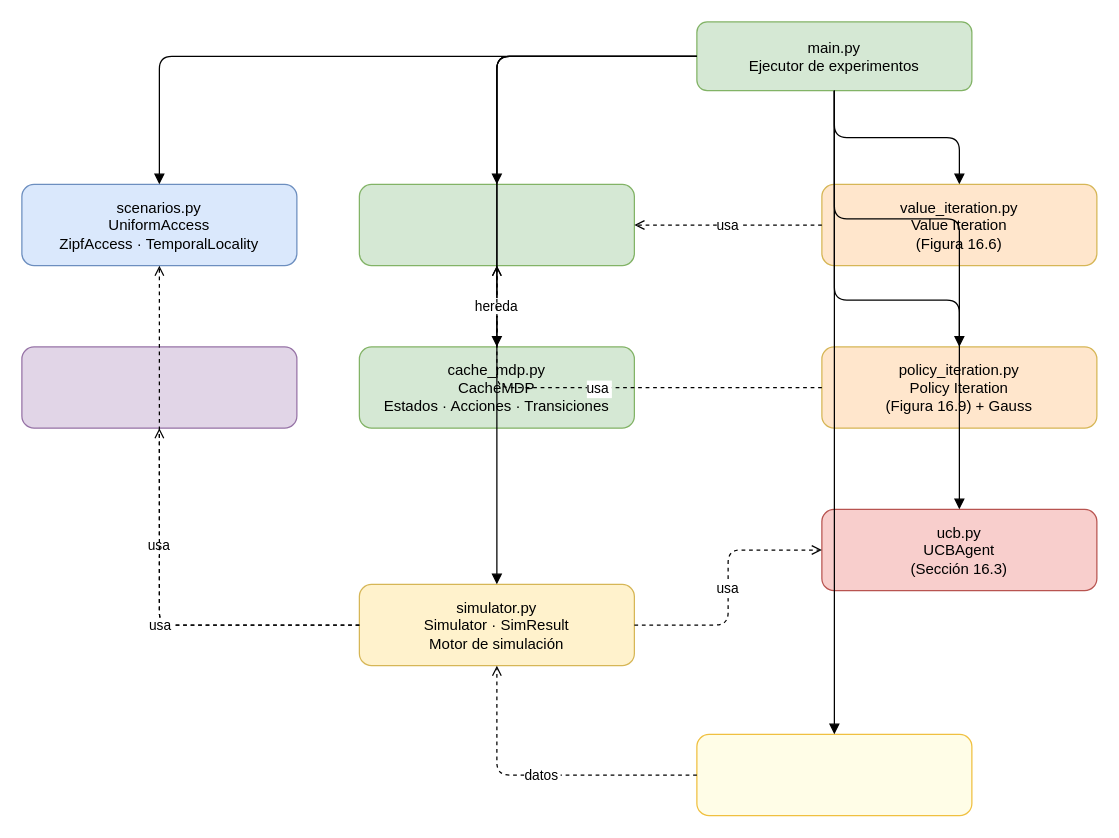
Some shapes in this 1119 by 838 pixel diagram are drawn without their labels. Each missing label, with the box of its shape:
baselines.py LRU · FIFO · Random Óptimo (Belady): (21, 346, 297, 428)
mdp.py Interfaz MDP abstracta q_value · best_action · best_q: (358, 183, 634, 266)
visualizer.py Gráficas matplotlib PNGs → figures/: (696, 733, 972, 816)
